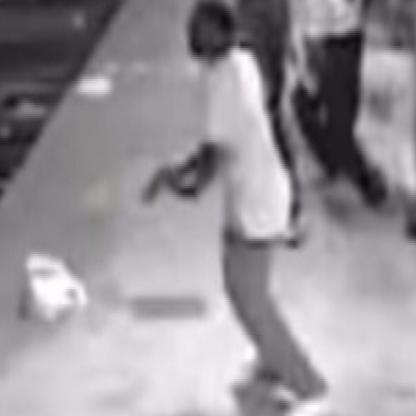gun: (138, 160, 178, 206)
